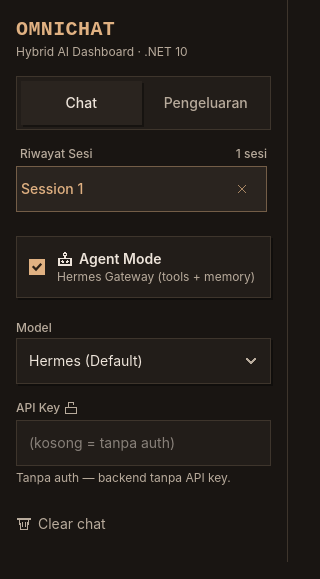
Test: Sidebar › asks before deleting a session, because the bin sits next to the label
Click the button named "Hapus Session 1".
click(242, 189)  # box [220,167,264,211]
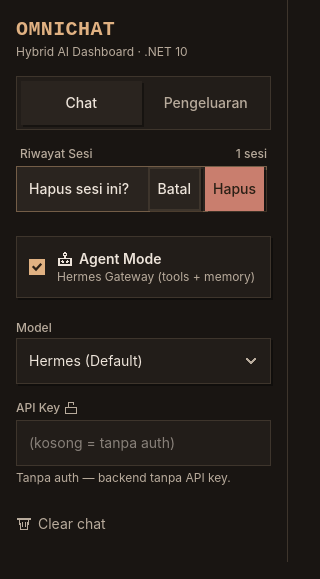
Check: the text "Hapus sesi ini?" is shown, box [29,179,129,199]
